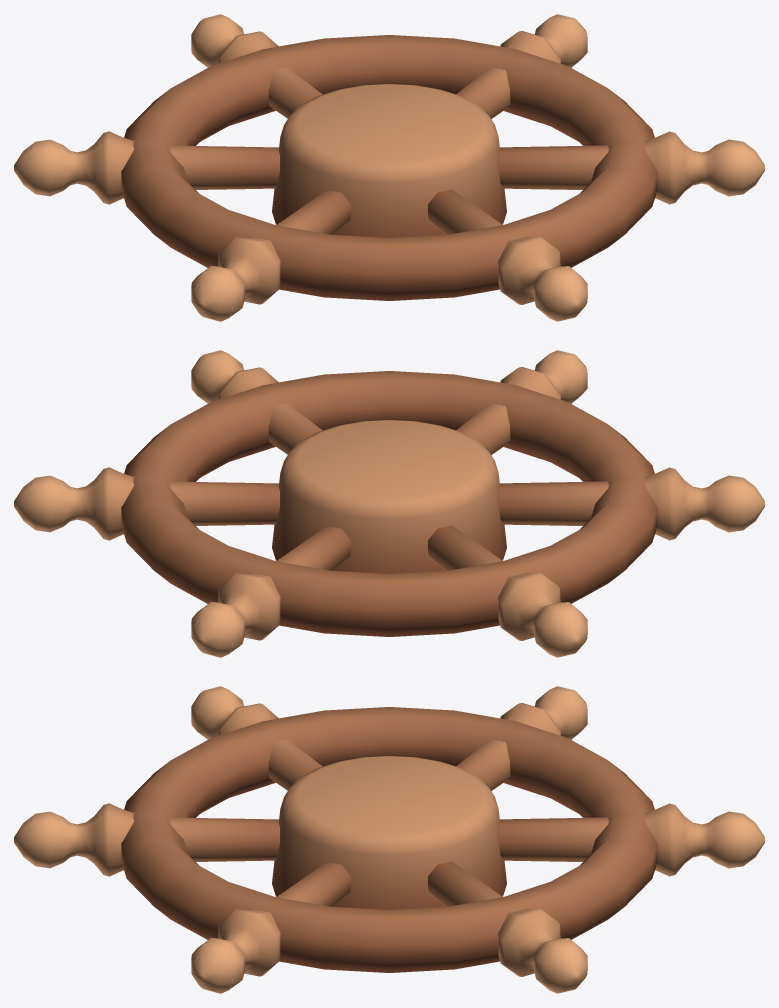
File: Rudder_01.fbx
3 views of the same model, one above another, from view 1: azimuth 30°, elevation 25°; view 2: azimuth 150°, elevation 25°; view 3: azimuth 270°, elevation 25° (orthographic).
Parts seen in each view (by area): view 1: Rudder_01; view 2: Rudder_01; view 3: Rudder_01.
Boxes of the visible parts, x1=… form: Rudder_01: x1=14, y1=14, x2=764, y2=321; Rudder_01: x1=14, y1=350, x2=764, y2=657; Rudder_01: x1=14, y1=686, x2=764, y2=993.
Size of the model in its own units: 297 by 44.27 by 341.
